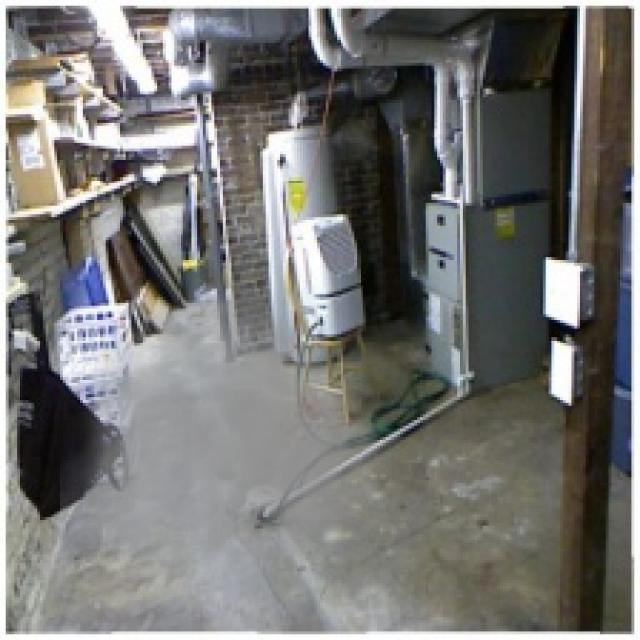smoke: (60, 268, 417, 632)
